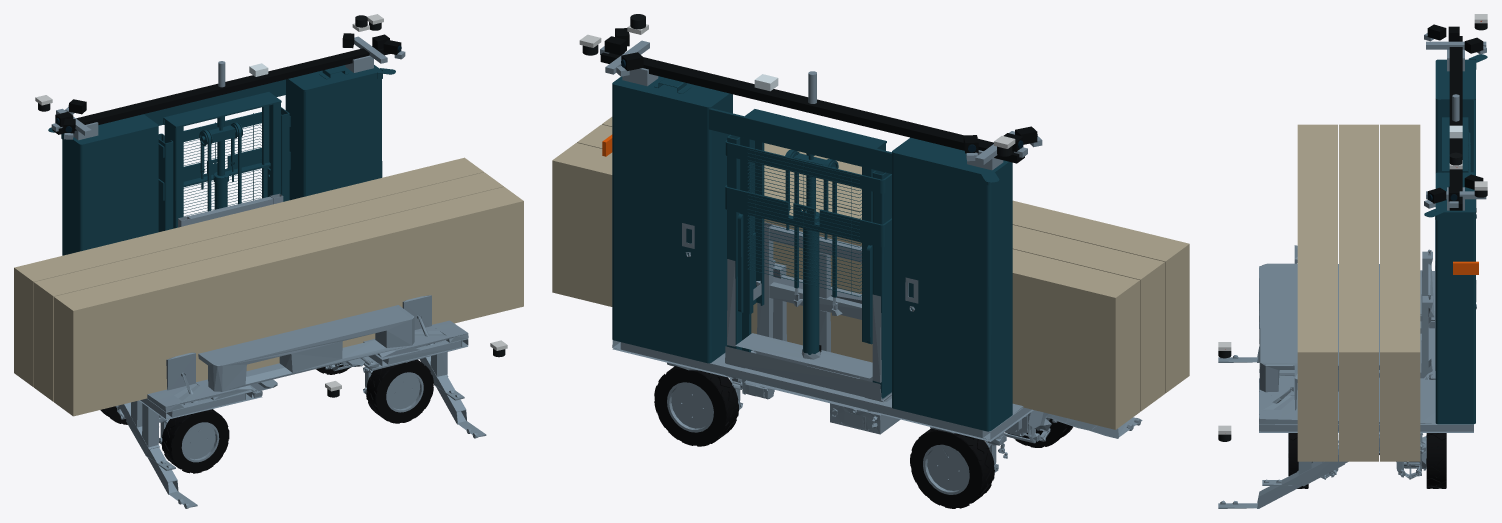
The model's file is 4WS_vehicle.dae.
3 renders of one model, left to right at view 1: azimuth 30°, elevation 25°; view 2: azimuth 150°, elevation 25°; view 3: azimuth 270°, elevation 25°, orthographic. The views are drawn at different scales.
Visible parts, largest first — view 1: node; view 2: node; view 3: node.
Boxes of the visible parts, x1,y1,x2,y2 form: node: (14, 14, 523, 508); node: (552, 14, 1189, 508); node: (1218, 14, 1487, 508).
Bounding box in the file's own units: 2.68 × 1.34 × 1.92.
